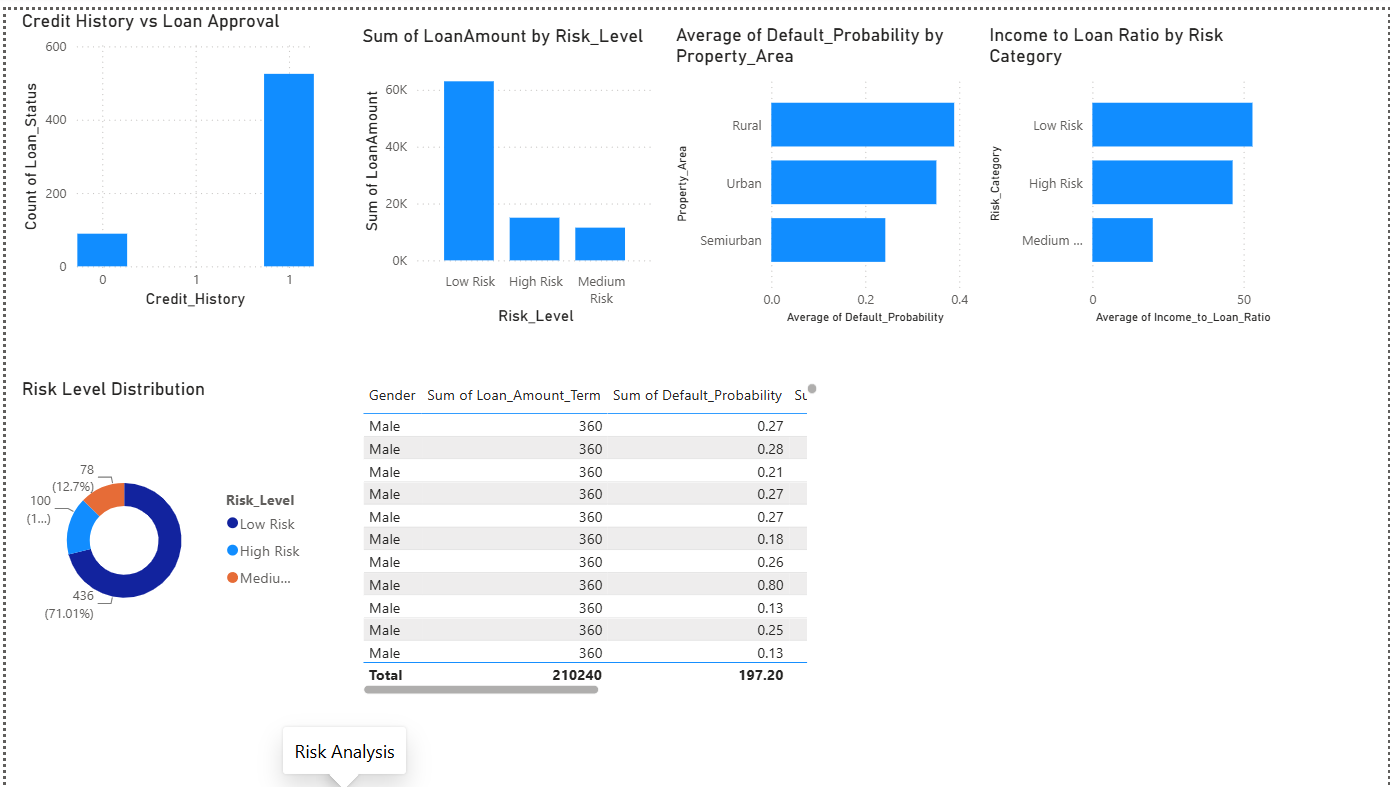

What the dashboard file says about the page in this screenshot:
{"tool":"powerbi","page":{"name":"Risk Analysis","canvas":[1280,720],"ordinal":1},"visuals":[{"type":"columnChart","title":"Credit History vs Loan Approval","fields":{"Category":["credit_risk_dashboard_data.Credit_History"],"Y":["CountNonNull(credit_risk_dashboard_data.Loan_Status)"]},"box":[10,0,280,280],"z":0},{"type":"donutChart","title":"Risk Level Distribution","fields":{"Category":["credit_risk_dashboard_data.Risk_Level"],"Y":["CountNonNull(credit_risk_dashboard_data.Loan_ID)"]},"box":[9.4,340.2,279.7,281.6],"z":1000},{"type":"clusteredColumnChart","fields":{"Category":["credit_risk_dashboard_data.Risk_Level"],"Y":["Sum(credit_risk_dashboard_data.LoanAmount)"]},"box":[325,13.2,279.7,281.6],"z":2000},{"type":"clusteredBarChart","fields":{"Category":["credit_risk_dashboard_data.Property_Area"],"Y":["Avg(credit_risk_dashboard_data.Default_Probability)"]},"box":[615,13,280,282],"z":3000},{"type":"clusteredBarChart","title":"Income to Loan Ratio by Risk Category","fields":{"Category":["credit_risk_dashboard_data.Risk_Category"],"Y":["Avg(credit_risk_dashboard_data.Income_to_Loan_Ratio)"]},"box":[905,13,280,282],"z":4000},{"type":"tableEx","fields":{"Values":["credit_risk_dashboard_data.Gender","Sum(credit_risk_dashboard_data.Loan_Amount_Term)","Sum(credit_risk_dashboard_data.Default_Probability)","Sum(credit_risk_dashboard_data.Total_Income)","credit_risk_dashboard_data.Risk_Level","credit_risk_dashboard_data.Property_Area","credit_risk_dashboard_data.Loan_ID"]},"box":[325,340.2,430.9,298.6],"z":5000}]}

Visuals, with their boxes in screenshot pixels (x1, y1, x2, y2), scaled from the page's 1280x720 canvas onto the 1390x787 screenshot:
"Credit History vs Loan Approval" columnChart: region(11, 0, 315, 306)
"Risk Level Distribution" donutChart: region(10, 372, 314, 680)
clusteredColumnChart - credit_risk_dashboard_data.Risk_Level x Sum(credit_risk_dashboard_data.LoanAmount): region(353, 14, 657, 322)
clusteredBarChart - credit_risk_dashboard_data.Property_Area x Avg(credit_risk_dashboard_data.Default_Probability): region(668, 14, 972, 322)
"Income to Loan Ratio by Risk Category" clusteredBarChart: region(983, 14, 1287, 322)
tableEx - credit_risk_dashboard_data.Gender x Sum(credit_risk_dashboard_data.Loan_Amount_Term): region(353, 372, 821, 698)
